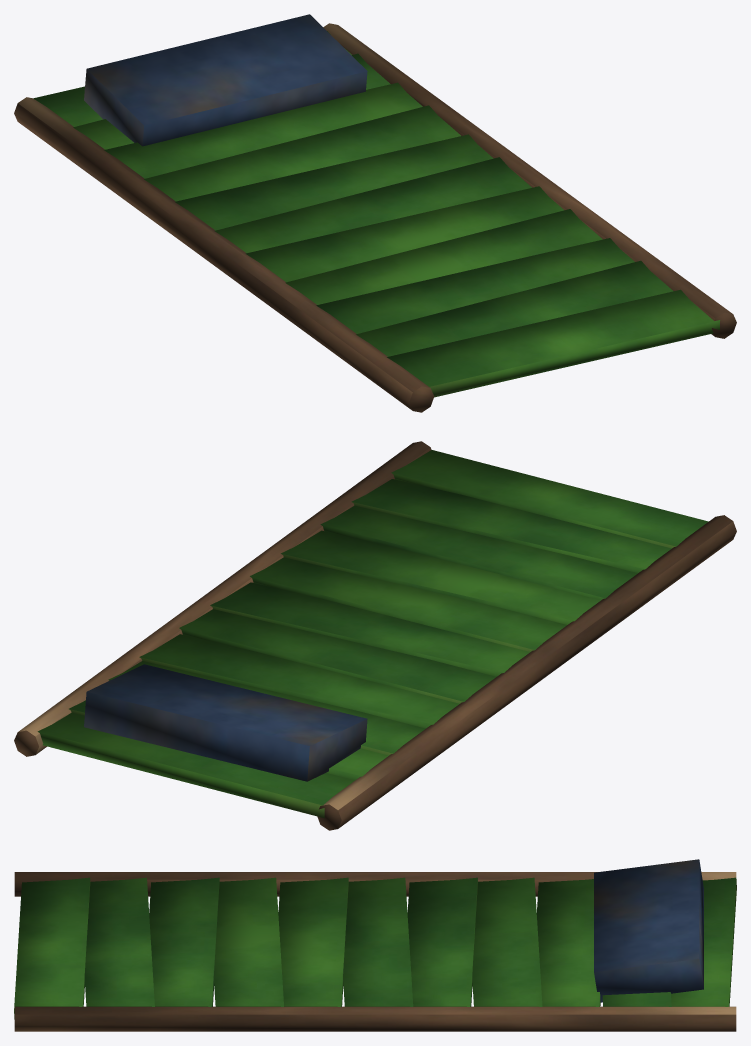
Rendered from sleeping_mat.glb.
3 views of the same model, one above another, from view 1: azimuth 30°, elevation 25°; view 2: azimuth 150°, elevation 25°; view 3: azimuth 270°, elevation 25° (orthographic). The views are drawn at different scales.
Parts seen in each view (by area): view 1: Sleeping_Mat; view 2: Sleeping_Mat; view 3: Sleeping_Mat.
Part boxes in pixels (<box>): Sleeping_Mat: <box>14,14,736,412</box>; Sleeping_Mat: <box>14,441,736,830</box>; Sleeping_Mat: <box>14,859,736,1031</box>.
Bounding box in the file's own units: 0.91 × 0.159 × 1.9.
3 materials, 3 textured.
